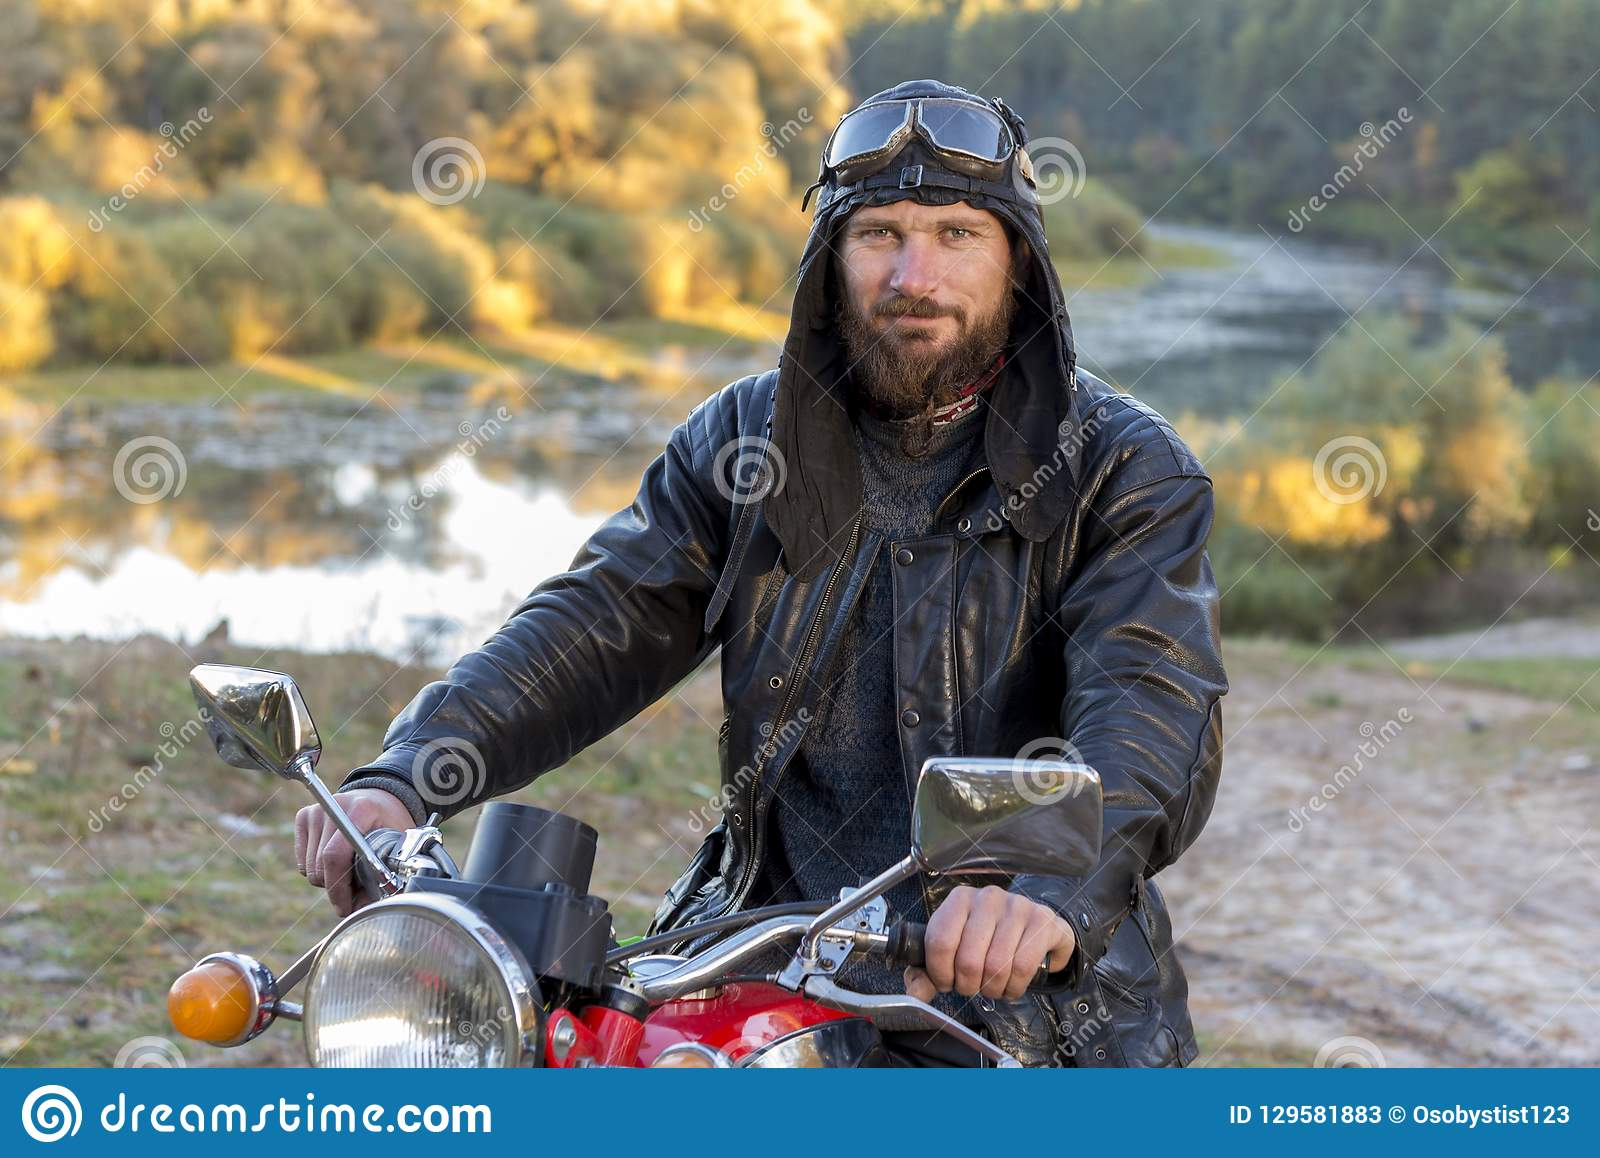helmet: (802, 81, 1057, 333)
